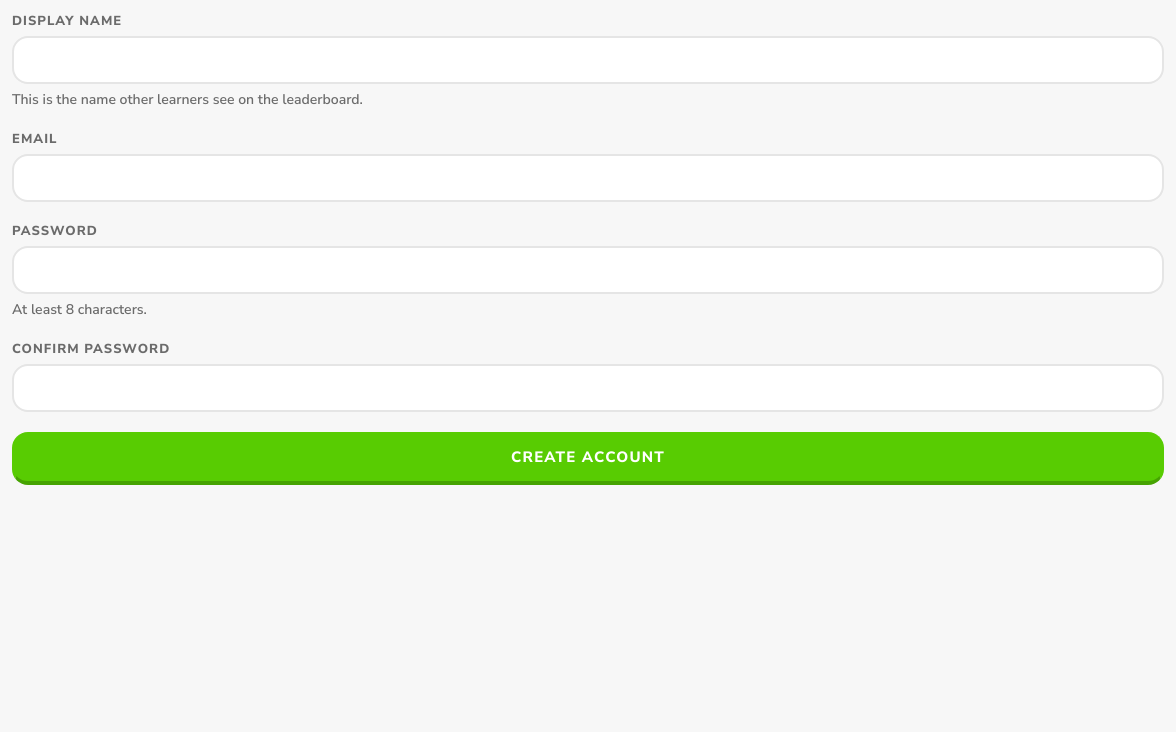
Test case: RegisterForm › a duplicate email is attached to the email field
Type "Alice" into the field labelled "Display name" at (588,60), box [12,36,1164,84]
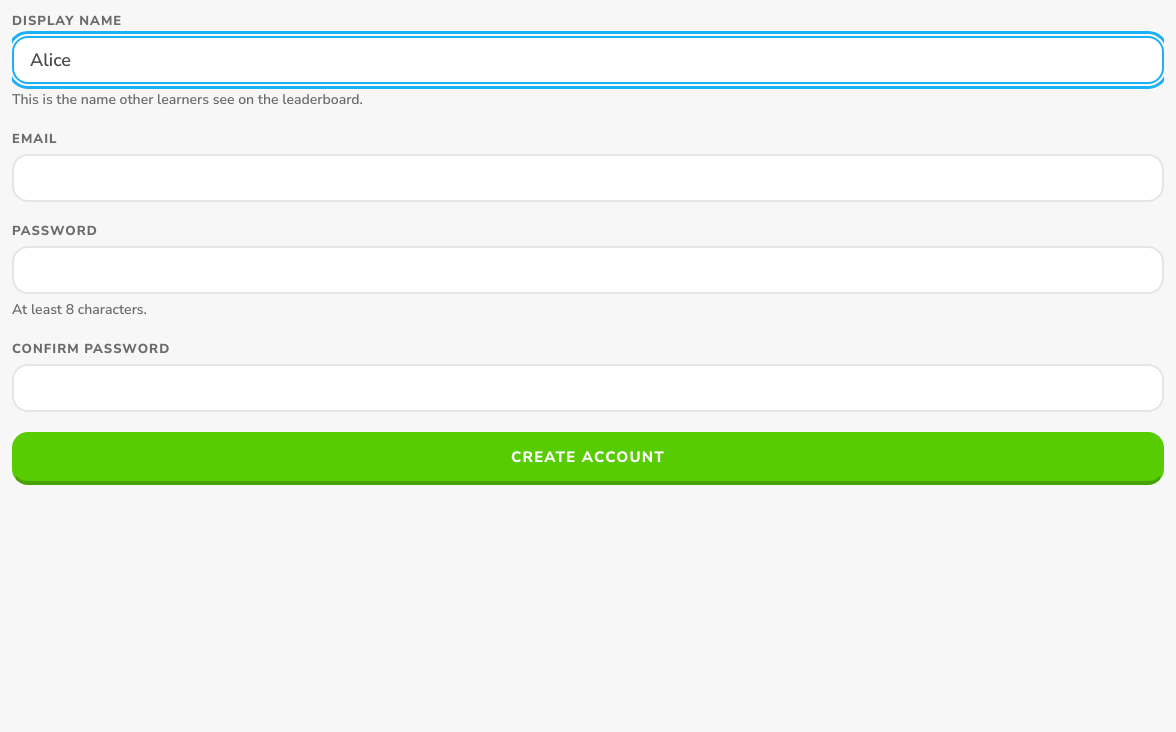
Type "alice@example.com" into the field labelled "Email" at (588,178), box [12,154,1164,202]
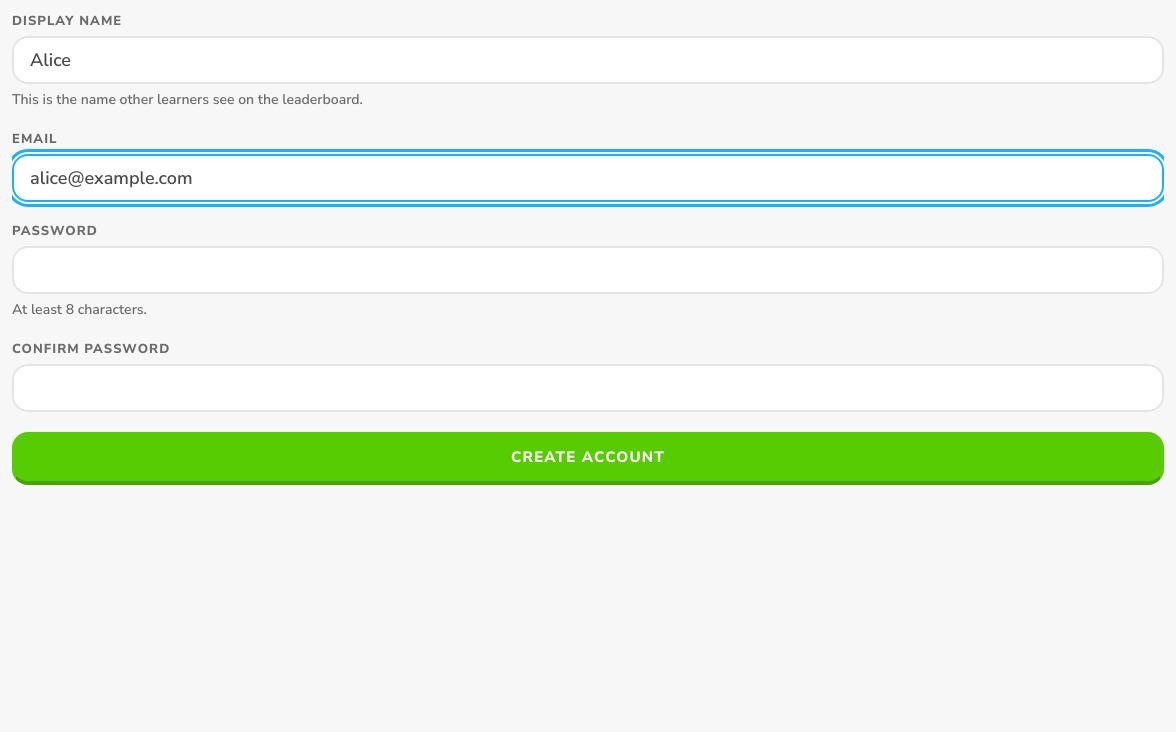
Type "password123" into the password field labelled "Password" at (588,270), box [12,246,1164,294]
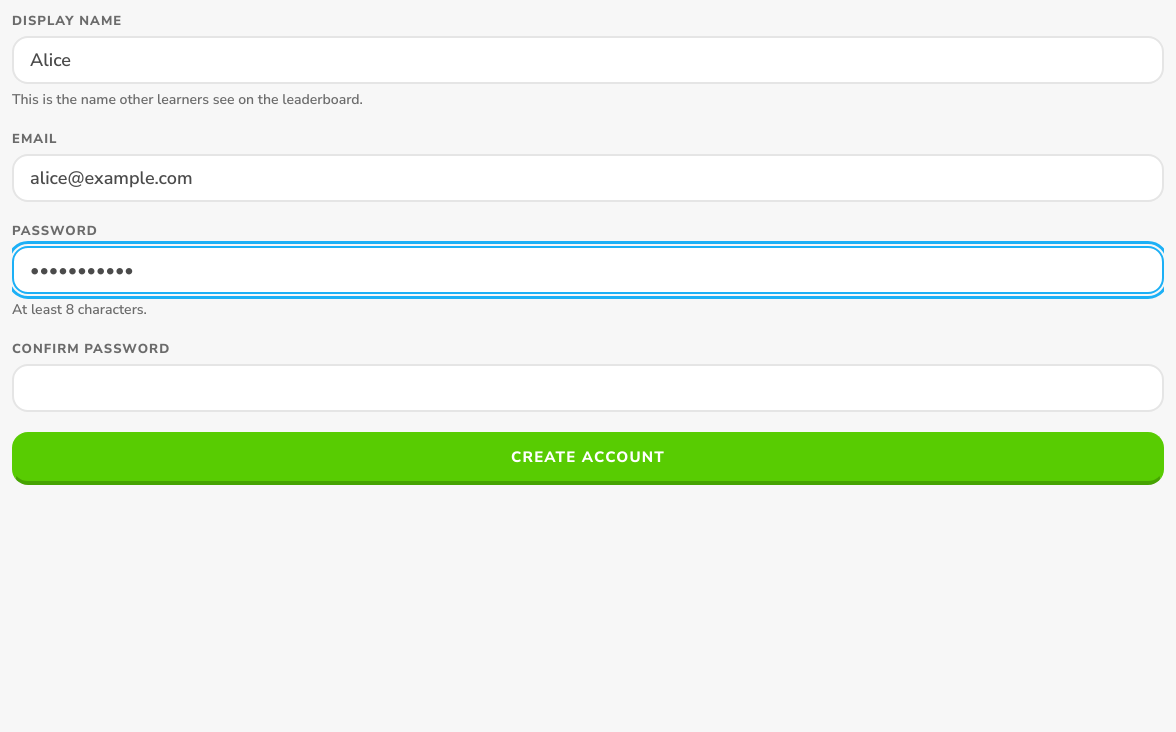
Type "password123" into the password field labelled "Confirm password" at (588,388), box [12,364,1164,412]
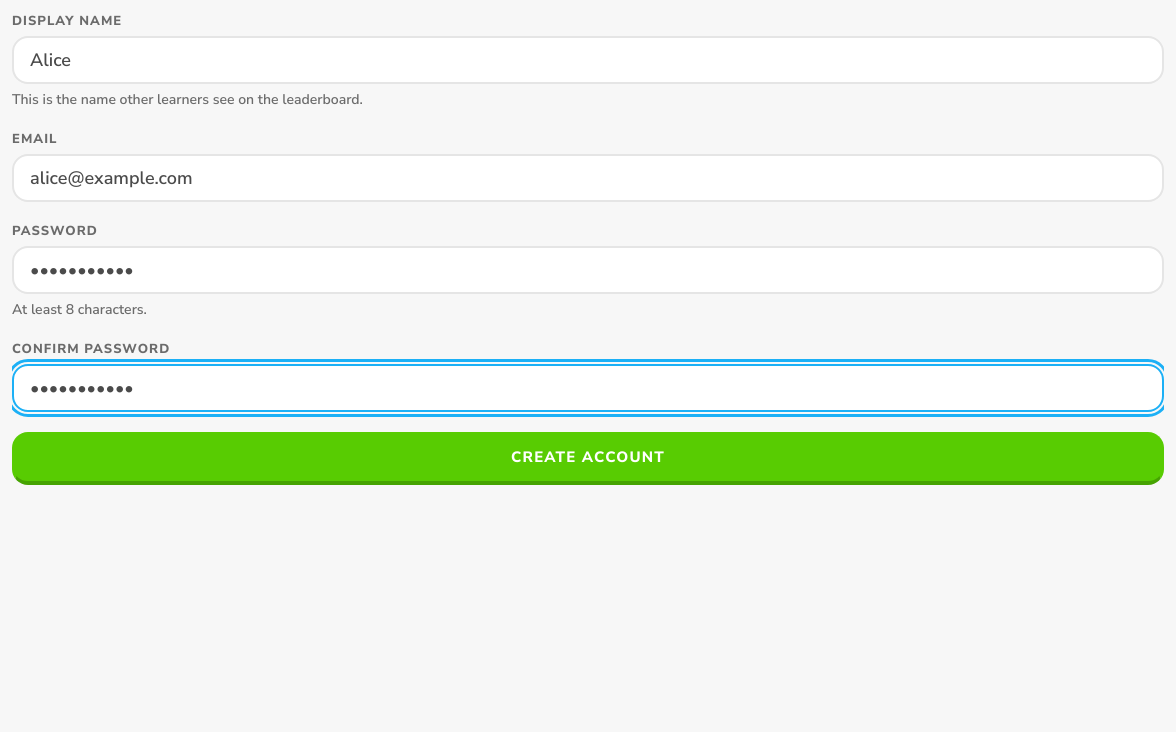
Click the button "Create account" at (588,458), box [12,432,1164,484]
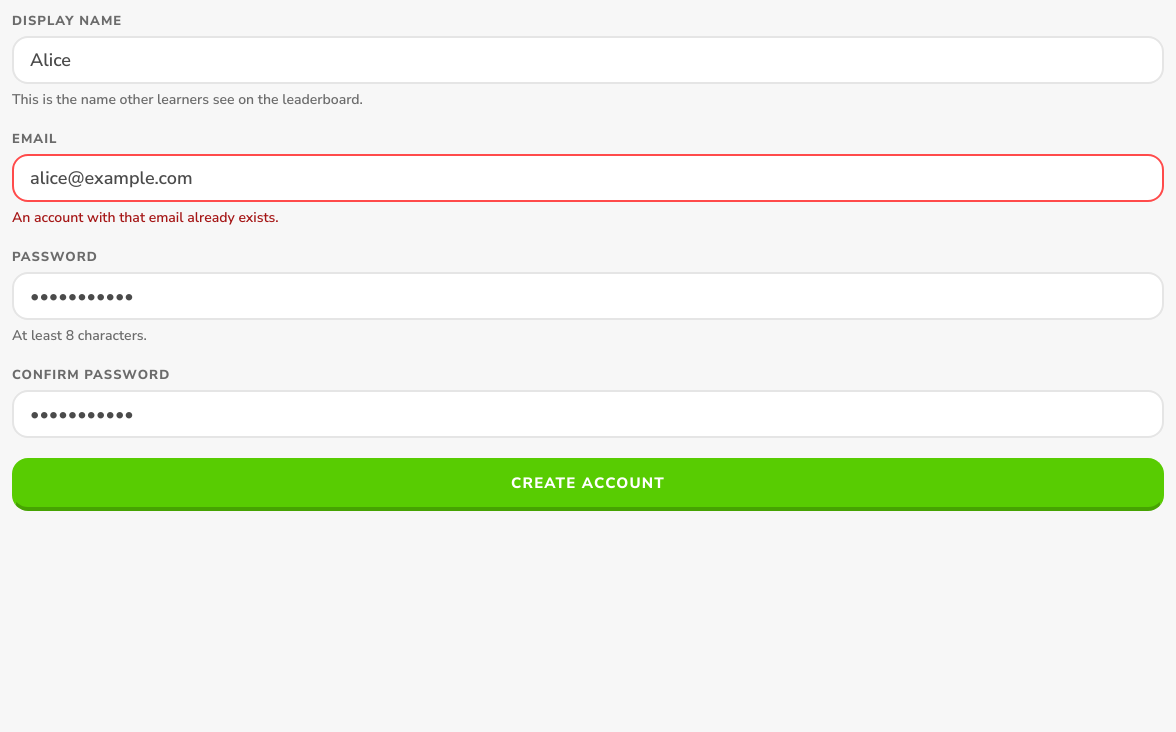
Now the text "An account with that email already exists." is shown, box [12,208,279,227]
